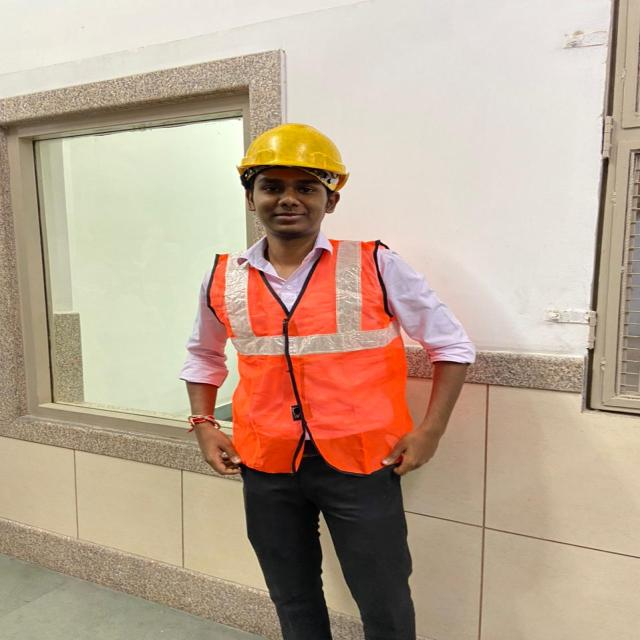safe: (183, 121, 479, 640)
